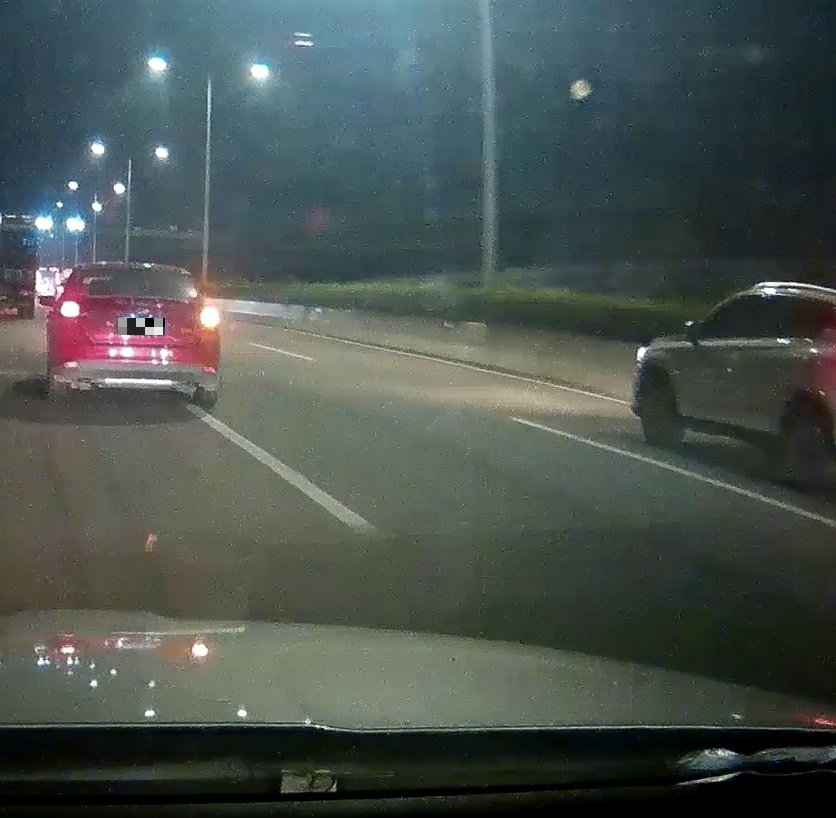L_light: (58, 300, 81, 318)
R_light: (200, 308, 218, 328)
T_light: (125, 268, 153, 273)
night-right: (51, 262, 220, 406)
plate_1: (118, 318, 165, 335)
